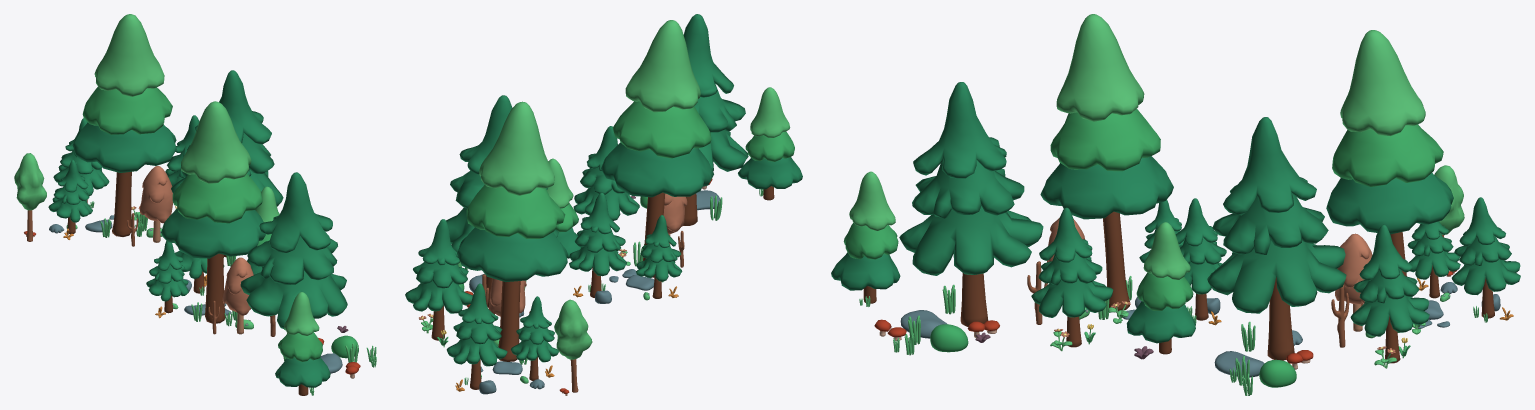
File: customforestsecond.gltf
The picture shows the model from 3 angles, left to right: view 1: azimuth 30°, elevation 25°; view 2: azimuth 150°, elevation 25°; view 3: azimuth 270°, elevation 25°; orthographic projection. The views are drawn at different scales.
Visible parts, largest first — view 1: Conifer_04_LOD1_Mat_Nature_0.002, Conifer_04_LOD1_Mat_Nature_0.003, Pine_05_LOD1_Mat_Nature_0.008, Conifer_03_LOD1_Mat_Nature_0.003, Pine_05_LOD1_Mat_Nature_0.001, Pine_05_LOD1_Mat_Nature_0.003, Pine_05_LOD1_Mat_Nature_0.006, Tree_F_03_LOD1_Mat_Nature_0.001, Tree_E_01_LOD1_Mat_Nature_0.003, Tree_F_03_LOD1_Mat_Nature_0.002, Pine_05_LOD1_Mat_Nature_0.004, Pine_05_LOD1_Mat_Nature_0.002 (+3 smaller); view 2: Conifer_04_LOD1_Mat_Nature_0.002, Conifer_04_LOD1_Mat_Nature_0.003, Pine_05_LOD1_Mat_Nature_0.008, Conifer_03_LOD1_Mat_Nature_0.003, Pine_05_LOD1_Mat_Nature_0.002, Pine_05_LOD1_Mat_Nature_0.004, Pine_05_LOD1_Mat_Nature_0.005, Pine_05_LOD1_Mat_Nature_0.001, Pine_05_LOD1_Mat_Nature_0.007, Pine_05_LOD1_Mat_Nature_0.006, Pine_05_LOD1_Mat_Nature_0.003, Tree_E_01_LOD1_Mat_Nature_0.003 (+6 smaller); view 3: Conifer_04_LOD1_Mat_Nature_0.003, Pine_05_LOD1_Mat_Nature_0.001, Conifer_04_LOD1_Mat_Nature_0.002, Pine_05_LOD1_Mat_Nature_0.008, Conifer_03_LOD1_Mat_Nature_0.002, Pine_05_LOD1_Mat_Nature_0.007, Pine_05_LOD1_Mat_Nature_0.002, Conifer_03_LOD1_Mat_Nature_0.003, Pine_05_LOD1_Mat_Nature_0.004, Pine_05_LOD1_Mat_Nature_0.005, Pine_05_LOD1_Mat_Nature_0.003, Tree_F_03_LOD1_Mat_Nature_0.001 (+6 smaller).
Boxes of the visible parts, box(x1,y1,x2,y2) form: Conifer_04_LOD1_Mat_Nature_0.002: box(72, 14, 176, 236); Conifer_04_LOD1_Mat_Nature_0.003: box(161, 101, 265, 323); Pine_05_LOD1_Mat_Nature_0.008: box(240, 172, 347, 333); Conifer_03_LOD1_Mat_Nature_0.003: box(275, 292, 330, 395); Pine_05_LOD1_Mat_Nature_0.001: box(171, 70, 283, 257); Pine_05_LOD1_Mat_Nature_0.003: box(48, 160, 92, 234); Pine_05_LOD1_Mat_Nature_0.006: box(146, 241, 188, 313); Tree_F_03_LOD1_Mat_Nature_0.001: box(139, 166, 173, 242); Tree_E_01_LOD1_Mat_Nature_0.003: box(14, 153, 46, 241); Tree_F_03_LOD1_Mat_Nature_0.002: box(222, 257, 253, 334); Pine_05_LOD1_Mat_Nature_0.004: box(53, 118, 109, 202); Pine_05_LOD1_Mat_Nature_0.002: box(165, 115, 199, 185); Conifer_04_LOD1_Mat_Nature_0.002: box(457, 101, 567, 361); Conifer_04_LOD1_Mat_Nature_0.003: box(601, 20, 713, 277); Pine_05_LOD1_Mat_Nature_0.008: box(683, 14, 748, 225); Conifer_03_LOD1_Mat_Nature_0.003: box(738, 87, 802, 200); Pine_05_LOD1_Mat_Nature_0.002: box(405, 219, 472, 340); Pine_05_LOD1_Mat_Nature_0.004: box(446, 283, 507, 389); Pine_05_LOD1_Mat_Nature_0.005: box(569, 192, 626, 297); Pine_05_LOD1_Mat_Nature_0.001: box(446, 95, 558, 307); Pine_05_LOD1_Mat_Nature_0.007: box(573, 126, 639, 220); Pine_05_LOD1_Mat_Nature_0.006: box(636, 215, 682, 298); Pine_05_LOD1_Mat_Nature_0.003: box(511, 296, 558, 380); Tree_E_01_LOD1_Mat_Nature_0.003: box(554, 299, 592, 392); Conifer_04_LOD1_Mat_Nature_0.003: box(1040, 14, 1173, 310); Pine_05_LOD1_Mat_Nature_0.001: box(1207, 117, 1346, 360); Conifer_04_LOD1_Mat_Nature_0.002: box(1326, 30, 1453, 276); Pine_05_LOD1_Mat_Nature_0.008: box(899, 82, 1043, 326); Conifer_03_LOD1_Mat_Nature_0.002: box(1126, 222, 1195, 354); Pine_05_LOD1_Mat_Nature_0.007: box(1031, 207, 1113, 347); Pine_05_LOD1_Mat_Nature_0.002: box(1350, 224, 1429, 363); Conifer_03_LOD1_Mat_Nature_0.003: box(831, 171, 900, 303); Pine_05_LOD1_Mat_Nature_0.004: box(1451, 197, 1520, 318); Pine_05_LOD1_Mat_Nature_0.005: box(1175, 198, 1226, 320); Pine_05_LOD1_Mat_Nature_0.003: box(1407, 221, 1460, 298); Tree_F_03_LOD1_Mat_Nature_0.001: box(1335, 233, 1372, 331).
Size of the model in its own units: 98.33 by 100 by 215.
63 materials, 63 textured.
